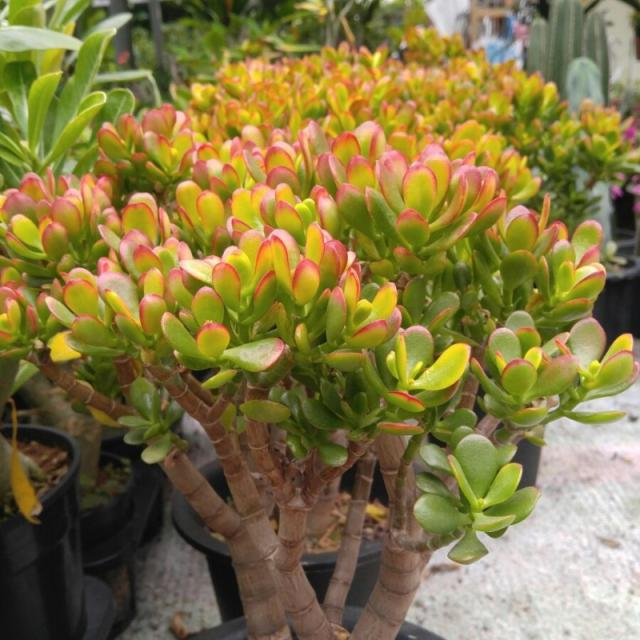Crassula: (162, 222, 401, 416), (118, 108, 345, 293), (311, 121, 475, 257), (270, 48, 525, 134), (46, 229, 191, 355), (414, 425, 540, 563), (471, 311, 605, 429), (0, 171, 121, 287), (189, 52, 329, 151), (498, 200, 605, 325), (95, 104, 194, 192), (385, 325, 469, 412), (120, 376, 184, 446)
